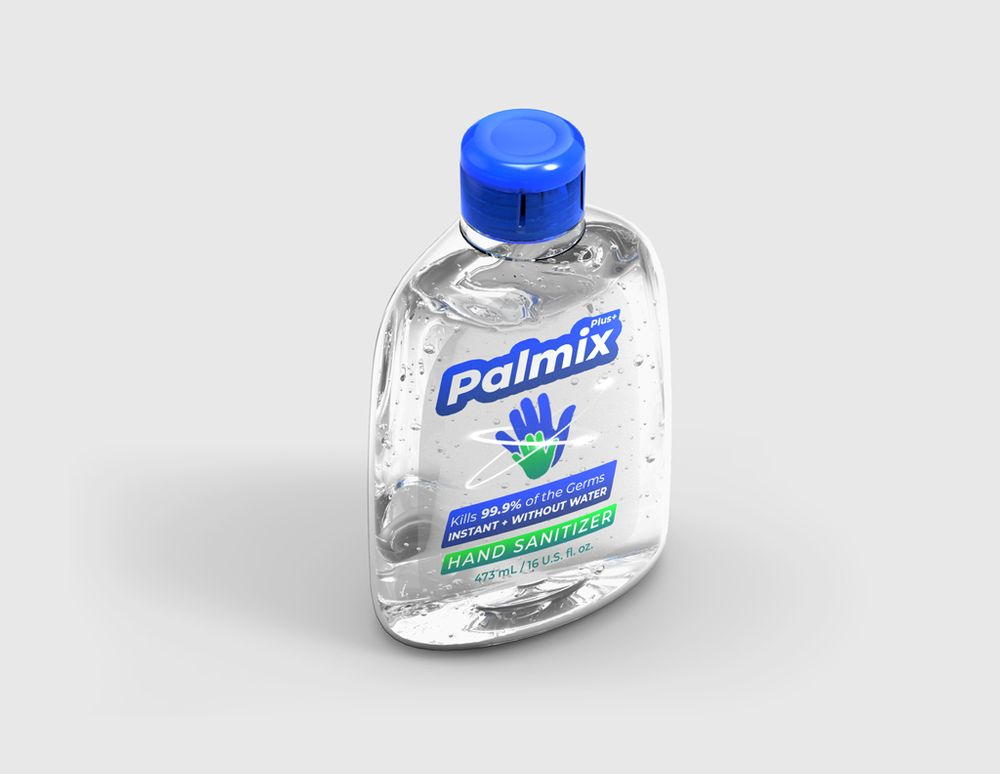Medicine: (346, 100, 696, 674)
